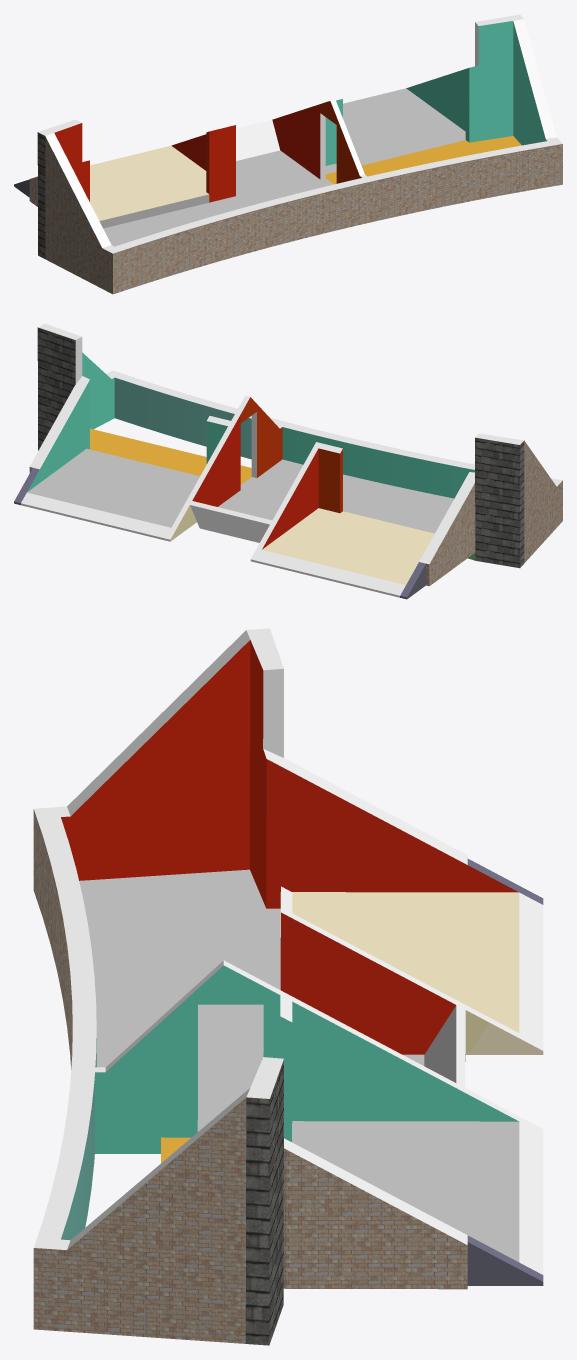
3 renders of one model, top to bottom at view 1: azimuth 30°, elevation 25°; view 2: azimuth 150°, elevation 25°; view 3: azimuth 270°, elevation 25°, orthographic. The views are drawn at different scales.
Parts seen in each view (by area): view 1: SKP_02_wanden buiten_2_D3G (×5), SKP_02_vloer_2_D3G (×5), SKP_Layer0_D3G (×3), SKP_02_wanden_2_D3G (×3); view 2: SKP_02_wanden buiten_2_D3G (×7), SKP_02_vloer_2_D3G (×4), SKP_Layer0_D3G (×4), SKP_02_wanden_2_D3G (×4); view 3: SKP_02_wanden buiten_2_D3G (×7), SKP_02_vloer_2_D3G (×3), SKP_Layer0_D3G (×4), SKP_02_wanden_2_D3G (×3).
Part boxes in pixels (x1=…): SKP_02_wanden buiten_2_D3G (×5): x1=29, y1=14, x2=562, y2=294; SKP_02_vloer_2_D3G (×5): x1=90, y1=88, x2=521, y2=246; SKP_Layer0_D3G (×3): x1=272, y1=101, x2=465, y2=183; SKP_02_wanden_2_D3G (×3): x1=171, y1=99, x2=367, y2=202; SKP_02_wanden buiten_2_D3G (×7): x1=14, y1=323, x2=562, y2=599; SKP_02_vloer_2_D3G (×4): x1=21, y1=421, x2=453, y2=597; SKP_Layer0_D3G (×4): x1=190, y1=397, x2=405, y2=595; SKP_02_wanden_2_D3G (×4): x1=206, y1=395, x2=342, y2=549; SKP_02_wanden buiten_2_D3G (×7): x1=33, y1=628, x2=543, y2=1345; SKP_02_vloer_2_D3G (×3): x1=79, y1=869, x2=543, y2=1274; SKP_Layer0_D3G (×4): x1=95, y1=668, x2=543, y2=1153; SKP_02_wanden_2_D3G (×3): x1=95, y1=886, x2=455, y2=1141.
Bounding box in the file's own units: 5.51 × 2.52 × 1.35.
23 materials, 2 textured.
